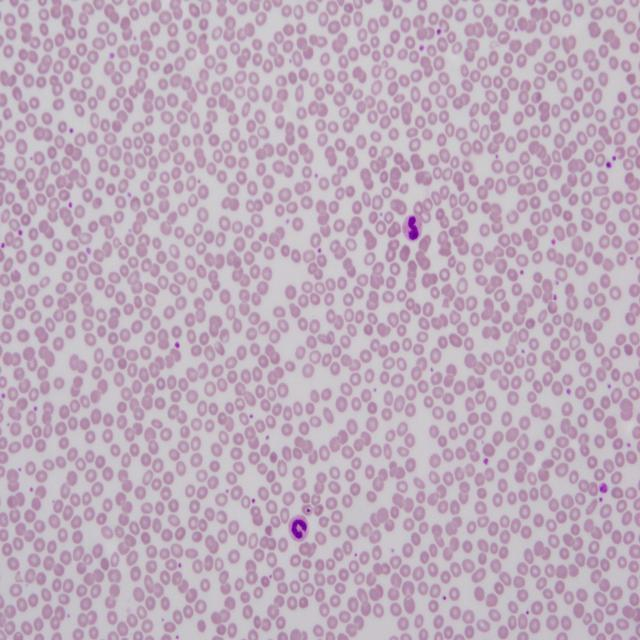cell: (289, 515, 309, 542)
